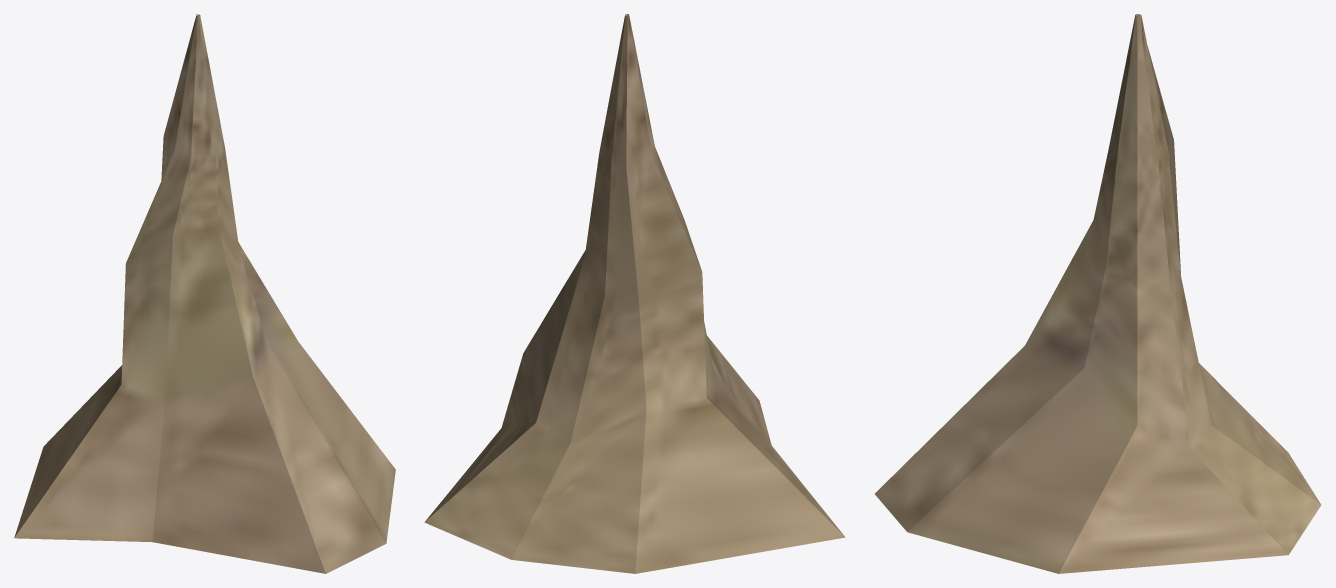
Rendered from rock_sand.fbx.
3 renders of one model, left to right at view 1: azimuth 30°, elevation 25°; view 2: azimuth 150°, elevation 25°; view 3: azimuth 270°, elevation 25°, orthographic. The views are drawn at different scales.
Visible parts, largest first — view 1: pCylinder1; view 2: pCylinder1; view 3: pCylinder1.
Part boxes in pixels (x1,y1,x2,y2): pCylinder1: (14,14,395,573); pCylinder1: (424,14,845,573); pCylinder1: (875,14,1321,573).
Size of the model in its own units: 5.71 by 7.12 by 6.02.
1 material, 1 textured.
